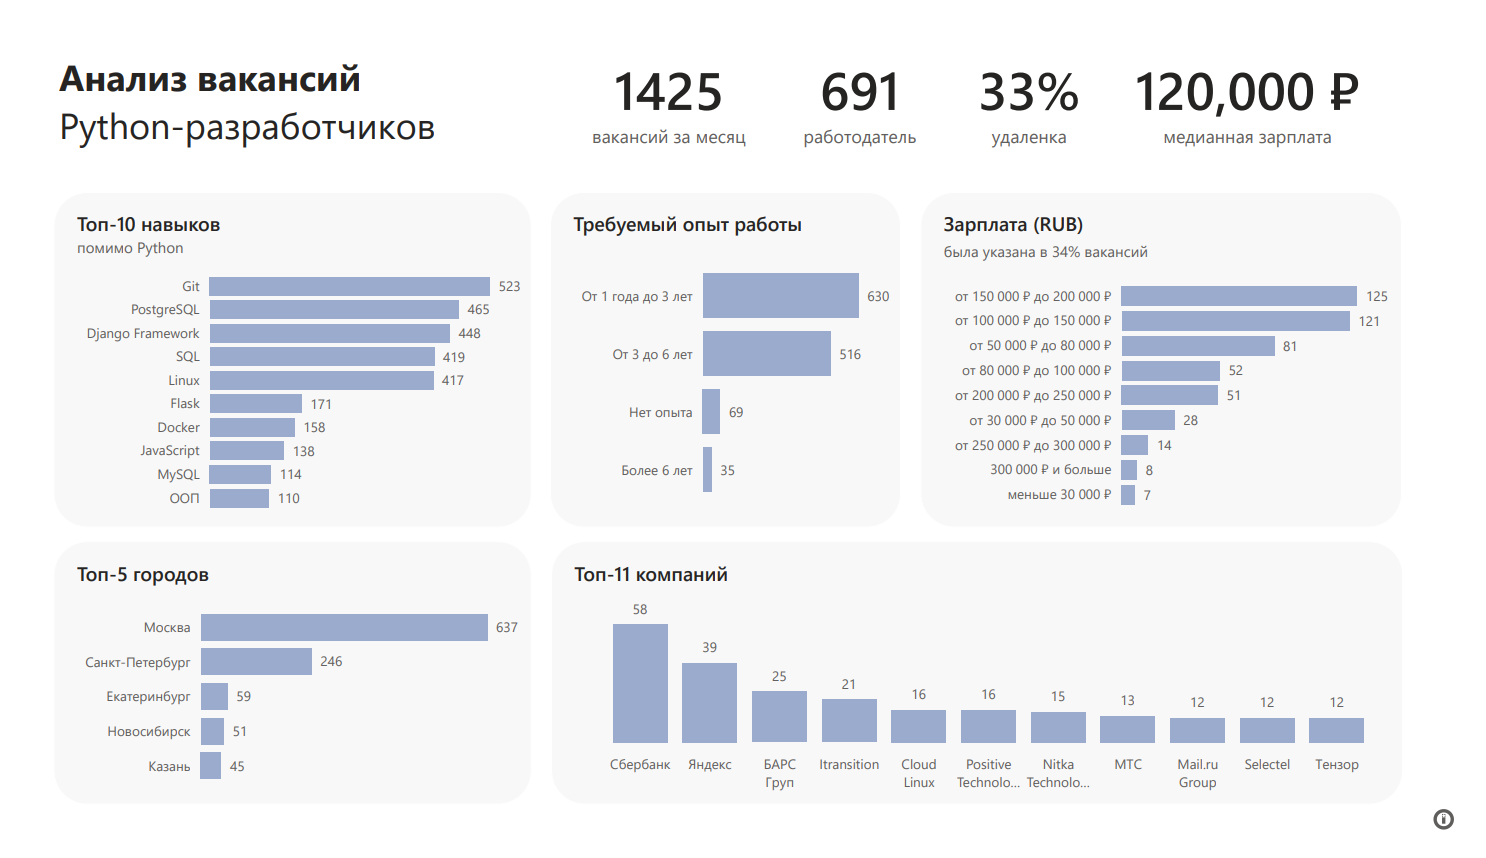

What the dashboard file says about the page in this screenshot:
{"tool":"powerbi","page":{"name":"анализ вакансий python-разработчиков","canvas":[1280,720],"ordinal":0},"visuals":[{"type":"textbox","title":"Дашборд для соискателей (Python-разработчики)","box":[26.7,20,353.3,110],"z":0},{"type":"actionButton","box":[1248.7,694.3,31.6,26.1],"z":1000},{"type":"clusteredBarChart","title":"Топ-10 навыков","fields":{"Category":["df2021-08-03.skills"],"Y":["CountNonNull(df2021-08-03.skills)"]},"box":[26.7,150,425,298.3],"z":2000},{"type":"columnChart","title":"Топ-11 компаний","fields":{"Category":["df2021-08-03.employer"],"Y":["Count(df2021-08-03.id)"]},"box":[469,460,756.5,234.5],"z":3000},{"type":"barChart","title":"Зарплата (RUB)","fields":{"Category":["df2021-08-03.salary_bin"],"Y":["Count(df2021-08-03.id)"]},"box":[796.7,150,428.3,298.3],"z":4000},{"type":"card","fields":{"Values":["Count(df2021-08-03.id)"]},"box":[500,20,148.3,96.7],"z":6000},{"type":"card","fields":{"Values":["Count(df2021-08-03.employer)"]},"box":[680,20,126.7,96.7],"z":7000},{"type":"card","fields":{"Values":["Median(df2021-08-03.salary_rur)"]},"box":[963.3,20,250,96.7],"z":8000},{"type":"barChart","title":"Требуемый опыт работы","fields":{"Category":["df2021-08-03.experience"],"Y":["Count(df2021-08-03.id)"]},"box":[468.3,150,311.7,298.3],"z":9000},{"type":"barChart","title":"Топ-5 городов","fields":{"Category":["df2021-08-03.area"],"Y":["Count(df2021-08-03.id)"]},"box":[27.2,460,425.2,234.5],"z":10000},{"type":"card","fields":{"Values":["df2021-08-03.test_percentage"]},"box":[840,20,123.3,96.7],"z":12000}]}

Visuals, with their boxes in screenshot pixels (x1, y1, x2, y2), scaled from the page's 1280x720 canvas onto the 1486x858 screenshot:
"Дашборд для соискателей (Python-разработчики)" textbox: <bbox>31, 24, 441, 155</bbox>
actionButton: <bbox>1450, 827, 1485, 857</bbox>
"Топ-10 навыков" clusteredBarChart: <bbox>31, 179, 524, 534</bbox>
"Топ-11 компаний" columnChart: <bbox>544, 548, 1423, 828</bbox>
"Зарплата (RUB)" barChart: <bbox>925, 179, 1422, 534</bbox>
card - Count(df2021-08-03.id): <bbox>580, 24, 753, 139</bbox>
card - Count(df2021-08-03.employer): <bbox>789, 24, 937, 139</bbox>
card - Median(df2021-08-03.salary_rur): <bbox>1118, 24, 1409, 139</bbox>
"Требуемый опыт работы" barChart: <bbox>544, 179, 906, 534</bbox>
"Топ-5 городов" barChart: <bbox>32, 548, 525, 828</bbox>
card - df2021-08-03.test_percentage: <bbox>975, 24, 1118, 139</bbox>
